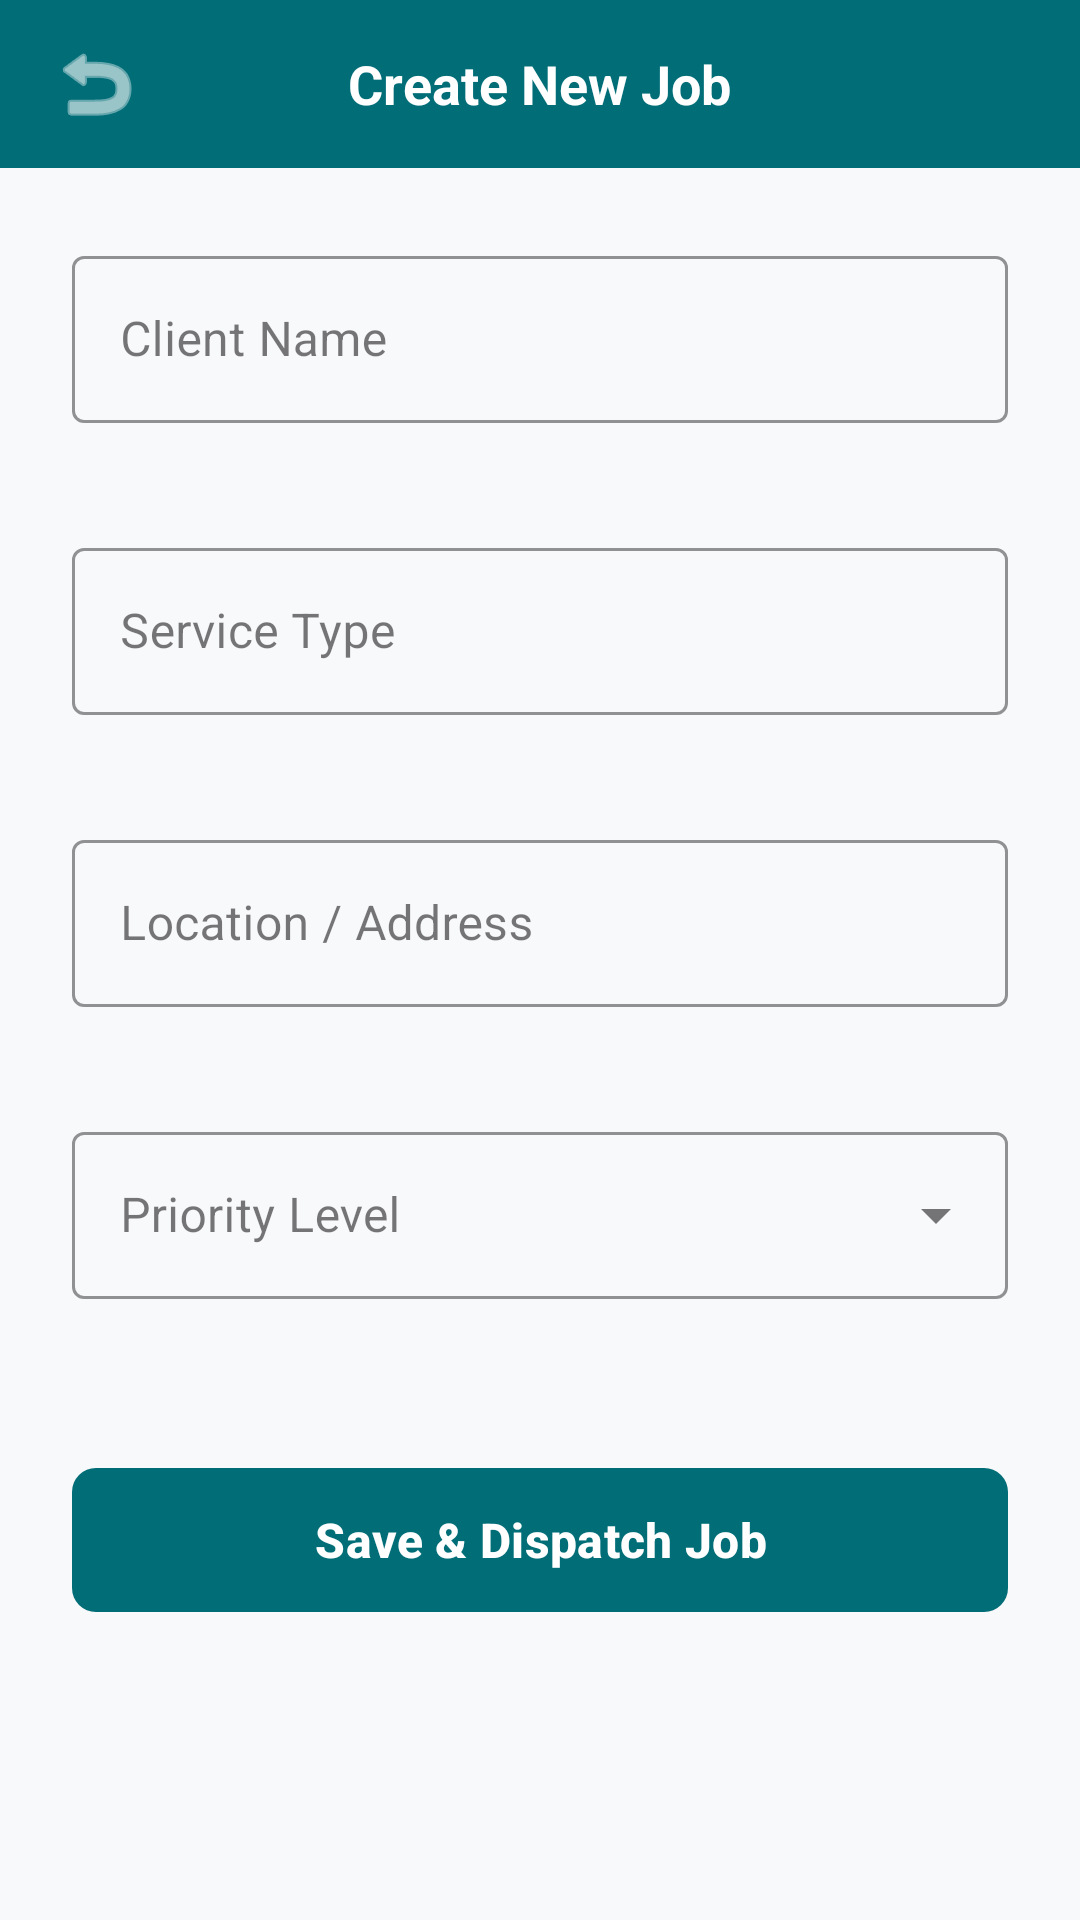

Icons on this 1080px×1920px Android screen, each with the point to tap as point (x, y):
Back: point (97, 84)
